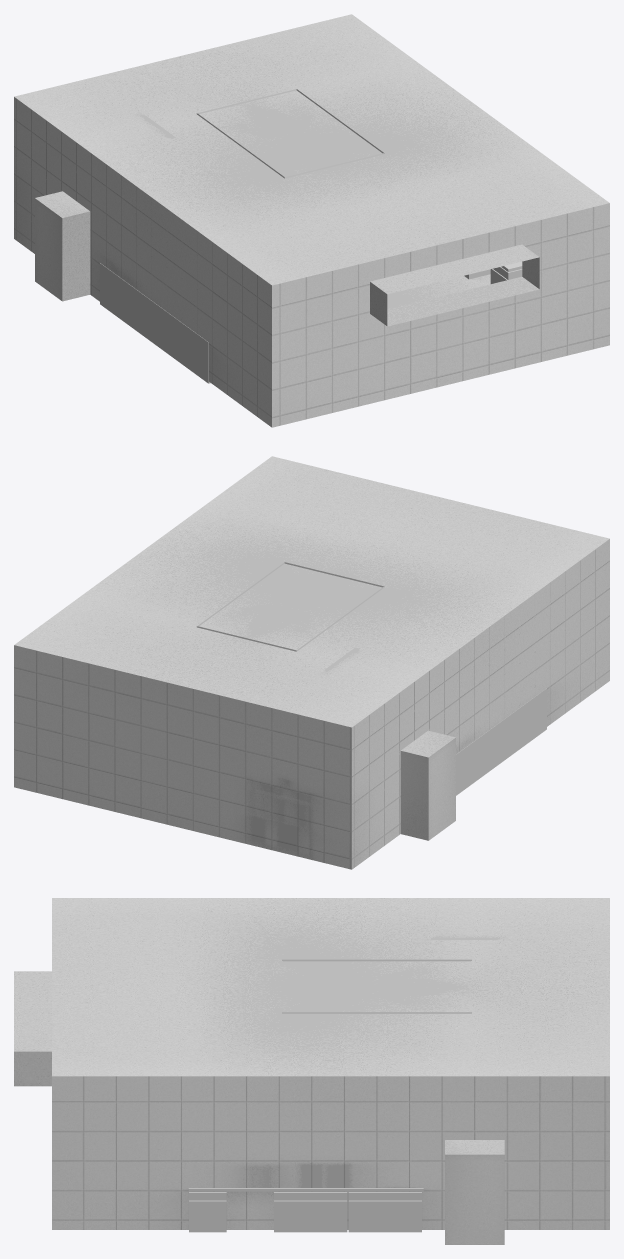
Rendered from kitchen.glb.
3 views of the same model, one above another, from view 1: azimuth 30°, elevation 25°; view 2: azimuth 150°, elevation 25°; view 3: azimuth 270°, elevation 25° (orthographic). The views are drawn at different scales.
Visible parts, largest first — view 1: Room, left-tabletop, centre-worktop, tabletop; view 2: Room, left-tabletop, centre-worktop; view 3: Room, tabletop, centre-worktop.
Part boxes in pixels (x1=…): Room: x1=14, y1=14, x2=609, y2=427; left-tabletop: x1=100, y1=263, x2=210, y2=383; centre-worktop: x1=196, y1=89, x2=384, y2=178; tabletop: x1=464, y1=261, x2=522, y2=283; Room: x1=14, y1=456, x2=609, y2=869; left-tabletop: x1=456, y1=688, x2=546, y2=795; centre-worktop: x1=196, y1=562, x2=384, y2=651; Room: x1=14, y1=898, x2=609, y2=1244; tabletop: x1=188, y1=1188, x2=423, y2=1232; centre-worktop: x1=282, y1=959, x2=471, y2=1013.
Bounding box in the file's own units: 11.65 × 4.11 × 14.13.
6 materials, 1 textured.
